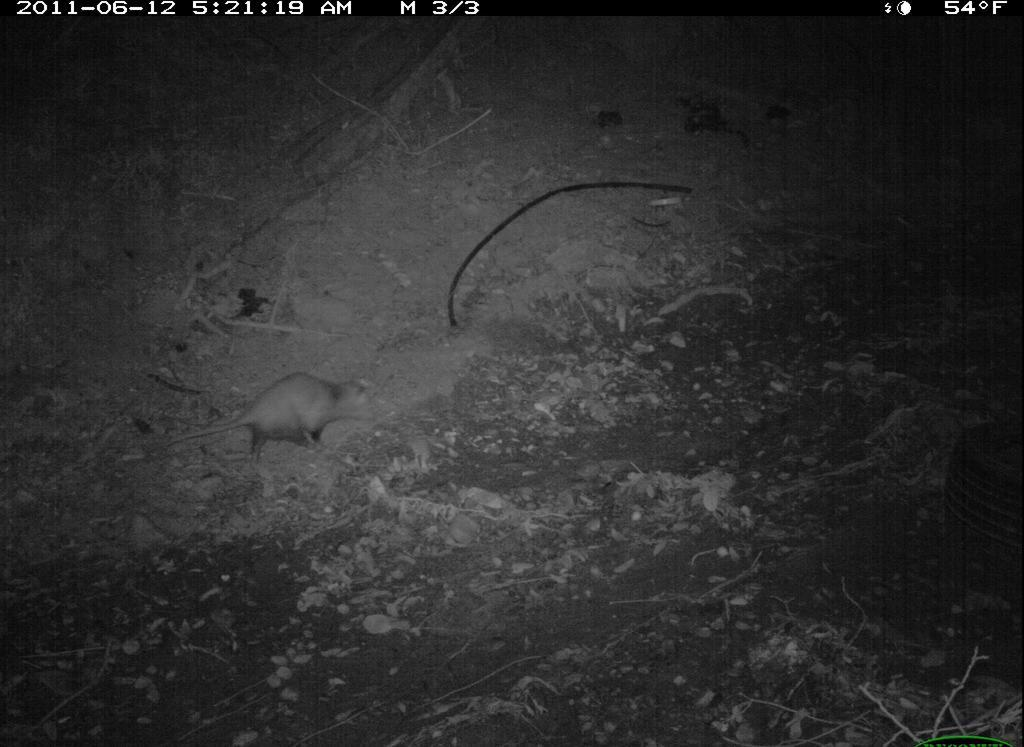opossum: (152, 368, 382, 464)
